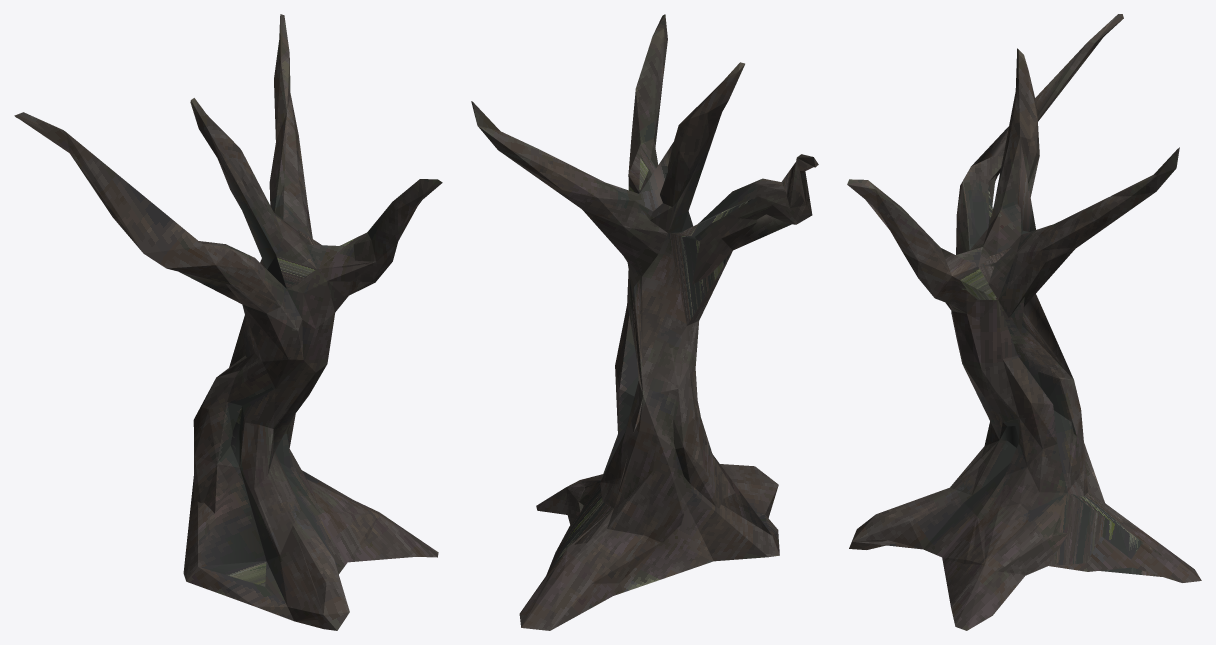
File: item_halloween_tree.glb
3 renders of one model, left to right at view 1: azimuth 30°, elevation 25°; view 2: azimuth 150°, elevation 25°; view 3: azimuth 270°, elevation 25°, orthographic. The views are drawn at different scales.
Visible parts, largest first — view 1: tree; view 2: tree; view 3: tree.
Part boxes in pixels (bbox=[...]): tree: bbox=[14, 14, 442, 630]; tree: bbox=[471, 14, 818, 630]; tree: bbox=[847, 14, 1201, 630].
Bounding box in the file's own units: 1.33 × 1.8 × 1.21.
1 material, 1 textured.
